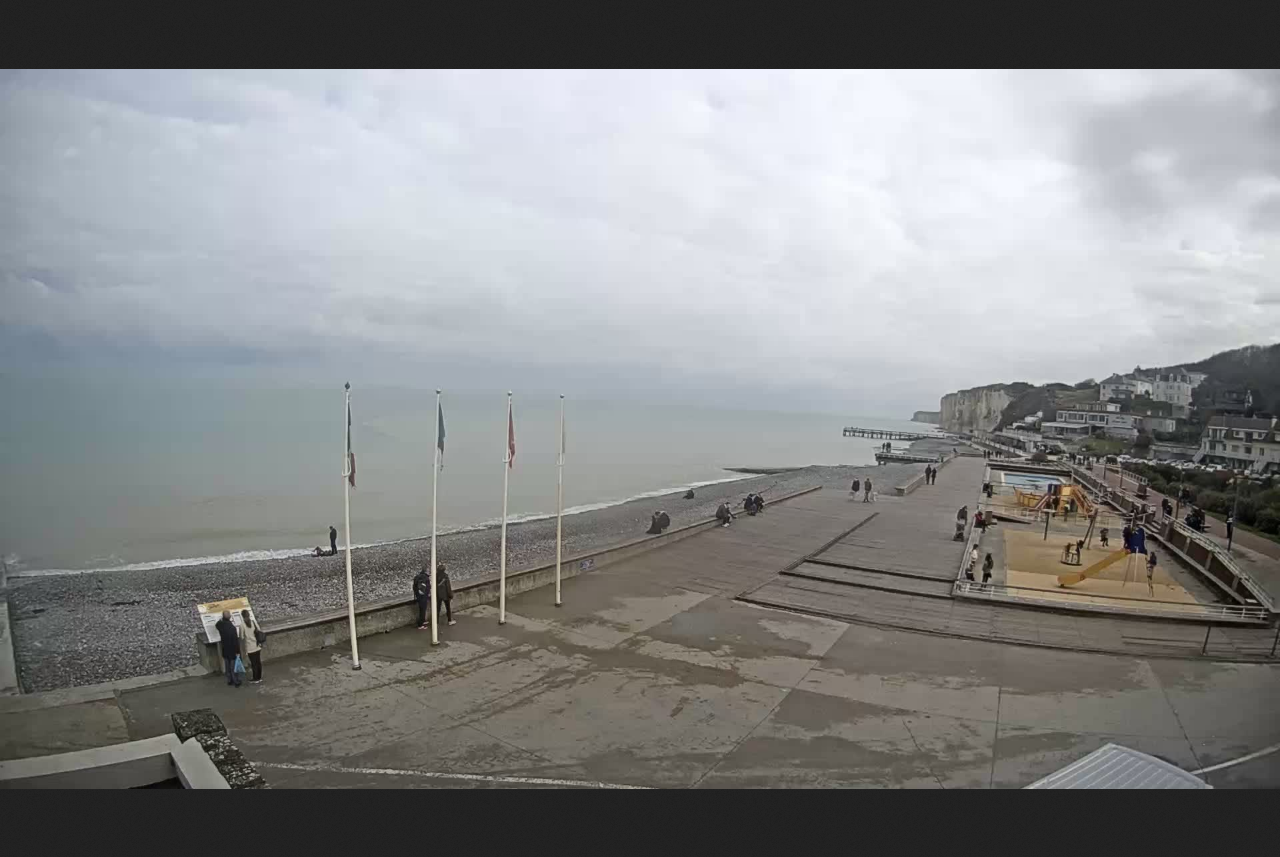no: (344, 406, 361, 490), (433, 404, 449, 467), (503, 404, 518, 470)
